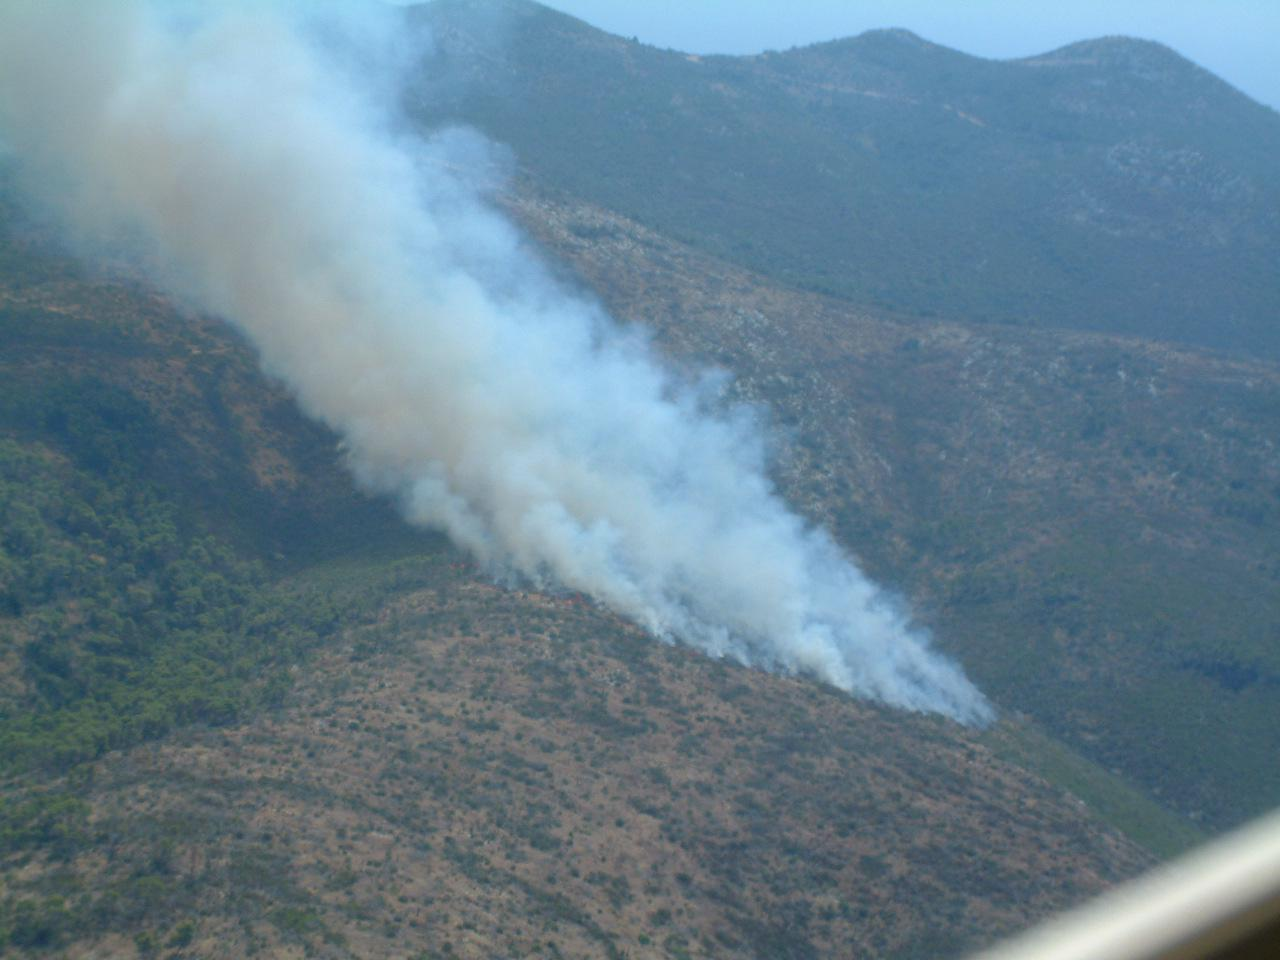Smoke: (7, 7, 989, 724)
